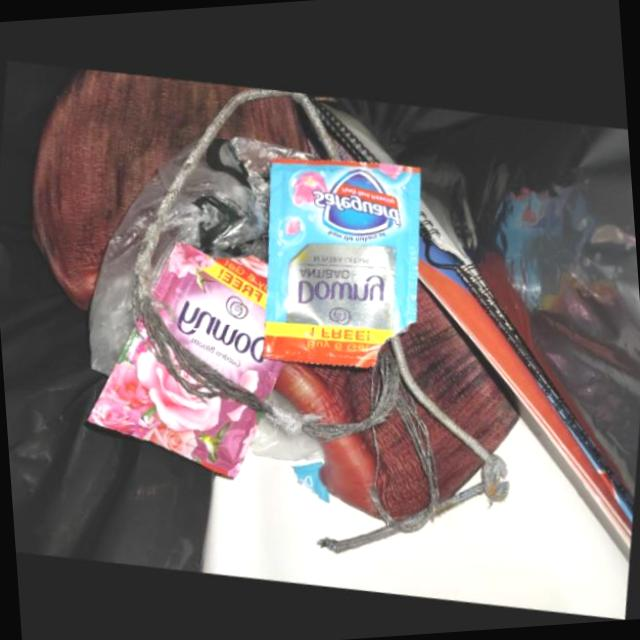goi_nhua_nho: (88, 239, 284, 476), (263, 153, 421, 363)
vo_rau_cu: (33, 67, 244, 309), (400, 278, 520, 446), (319, 405, 432, 515), (415, 394, 486, 497), (214, 89, 315, 151), (275, 358, 372, 419)
